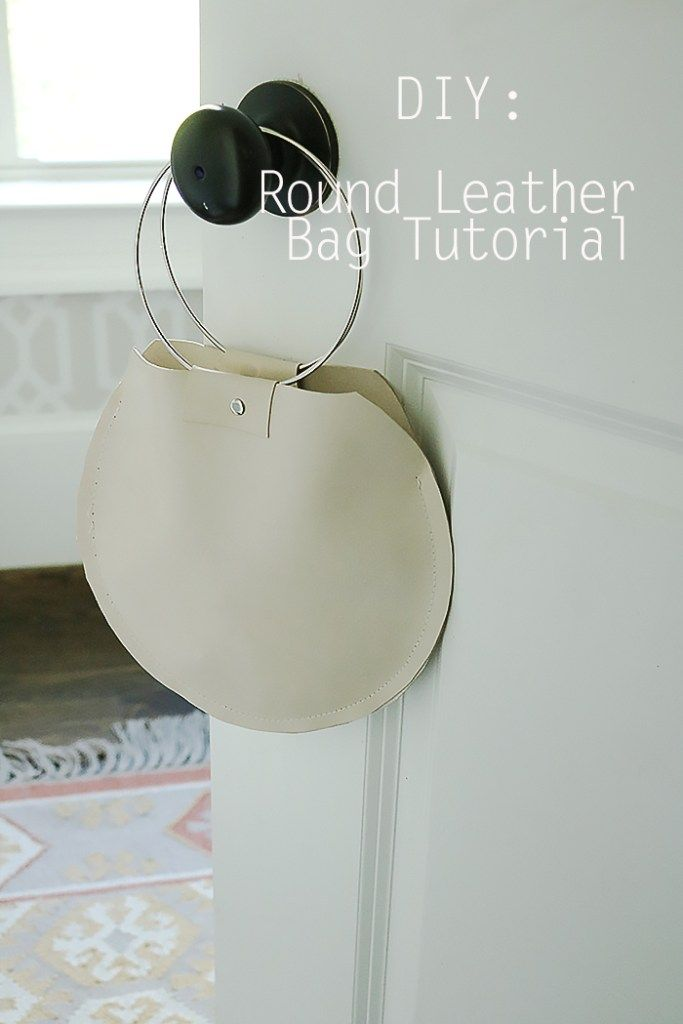cuero: (77, 338, 456, 734)
